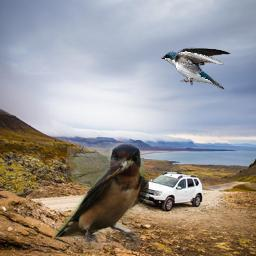Swallow: (54, 143, 149, 251), (161, 47, 231, 90)
